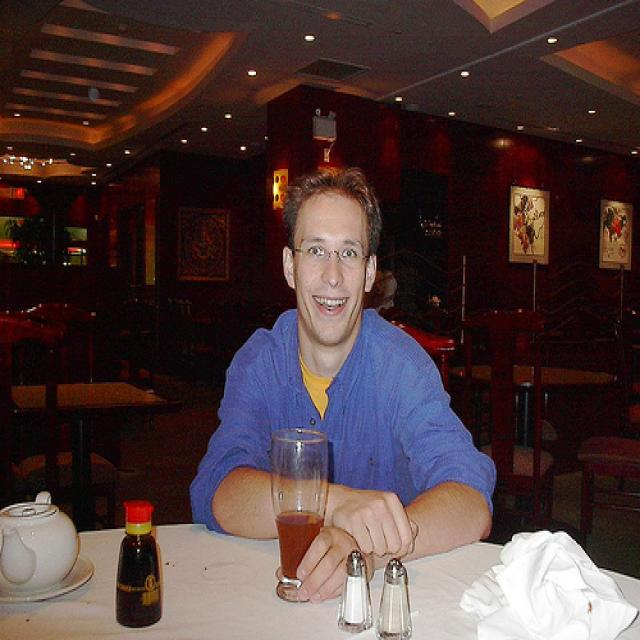Cup: (254, 415, 338, 619)
People: (252, 157, 484, 575)
